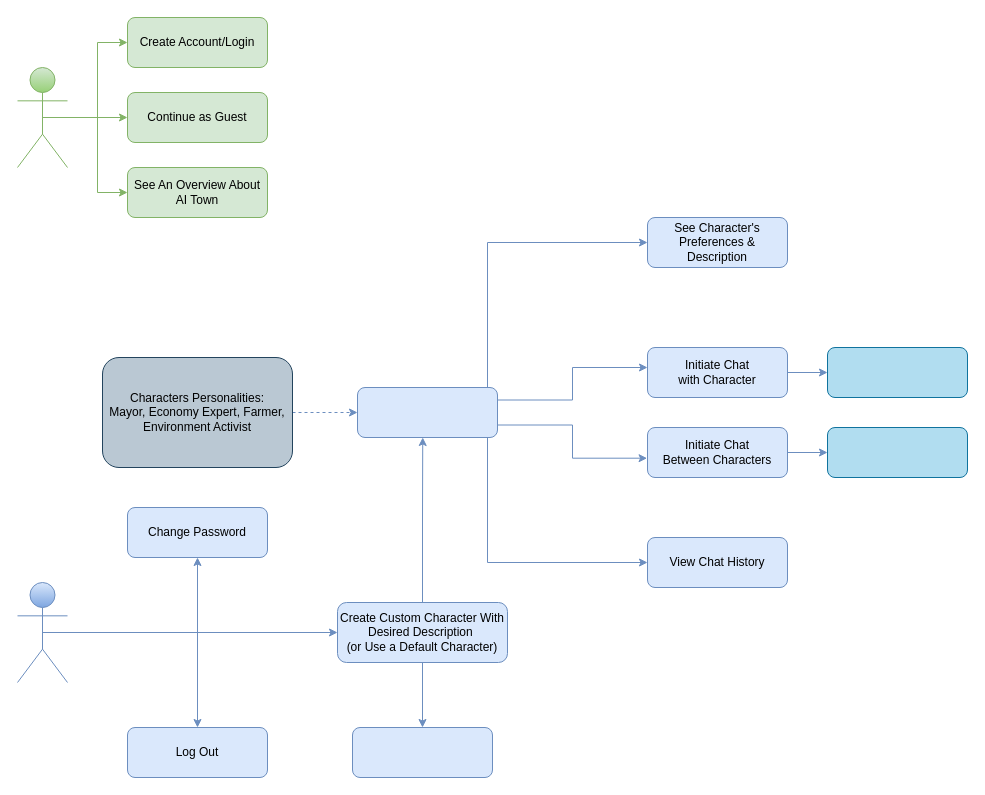
Image size: 985x795. Some labels were removed from this diagram. Here are the shapes that lost their labels. From the top down, the centre of each, then its label:
(42,117): Visitor
(897,372): Generate Character Response
(427,412): Select Character
(897,452): Generate Character-to-Character Conversation
(42,632): User
(422,752): Edit Custom Character
